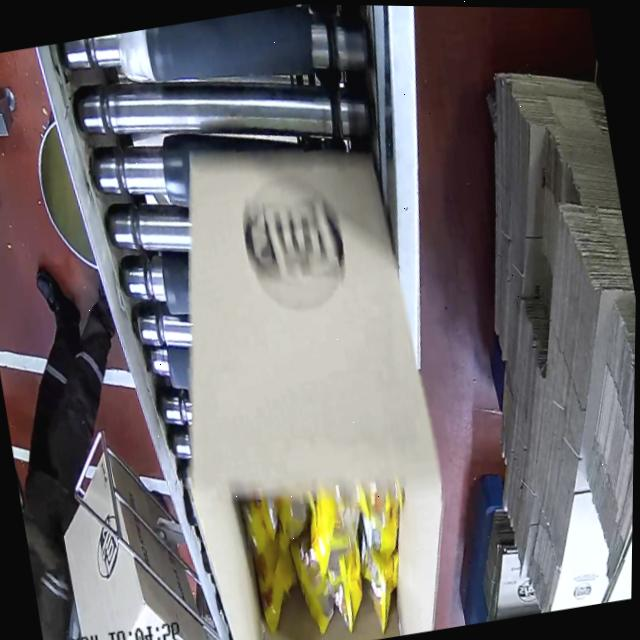SALTED: (231, 471, 405, 640)
